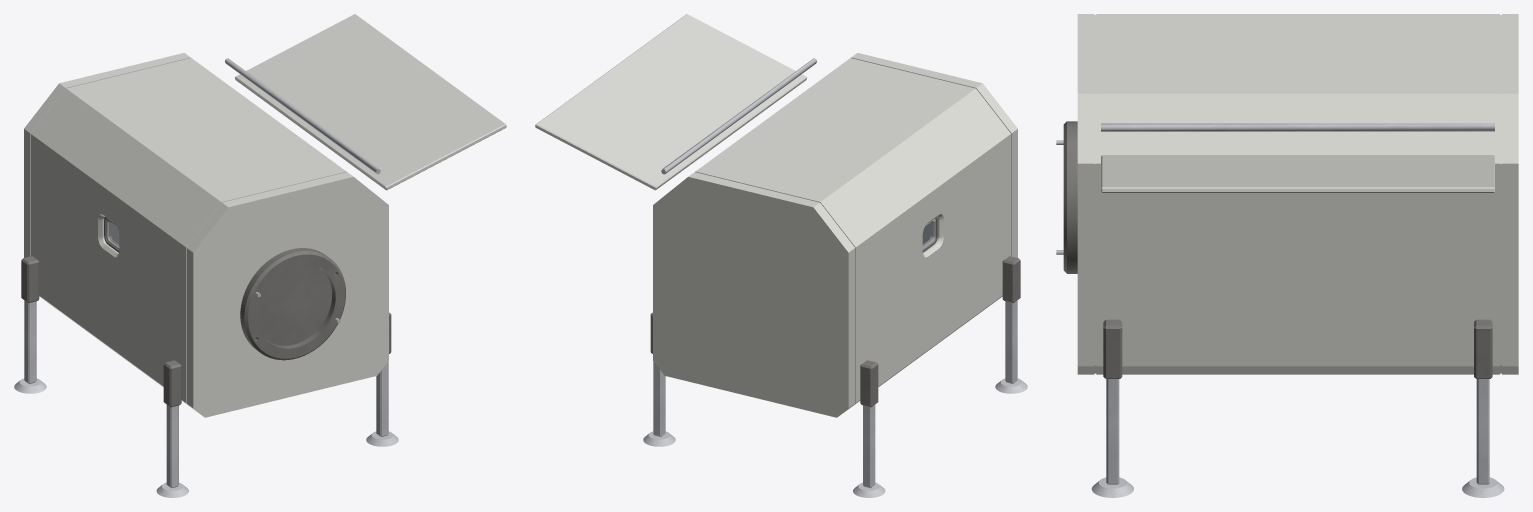
The model's file is ax_rover_06_temp_station_deployed.glb.
3 renders of one model, left to right at view 1: azimuth 30°, elevation 25°; view 2: azimuth 150°, elevation 25°; view 3: azimuth 270°, elevation 25°, orthographic. The views are drawn at different scales.
Visible parts, largest first — view 1: hub_shell, panel_awning_radiator, hatch_door_1, hub_ring_front, leg_2, leg_1, leg_3, awning_hinge, jack_sleeve_1, jack_sleeve_2; view 2: hub_shell, panel_awning_radiator, leg_1, leg_2, leg_4, awning_hinge, jack_sleeve_2, jack_sleeve_1; view 3: hub_shell, panel_awning_radiator, awning_hinge, hub_ring_front, leg_3, leg_4, jack_sleeve_3, jack_sleeve_4.
Part boxes in pixels (left/top/right/bottom): hub_shell: left=24, top=53, right=388, bottom=417; panel_awning_radiator: left=235, top=14, right=506, bottom=190; hatch_door_1: left=257, top=264, right=331, bottom=345; hub_ring_front: left=240, top=248, right=345, bottom=360; leg_2: left=14, top=300, right=46, bottom=393; leg_1: left=156, top=405, right=188, bottom=497; leg_3: left=366, top=361, right=398, bottom=446; awning_hinge: left=225, top=58, right=380, bottom=174; jack_sleeve_1: left=163, top=360, right=181, bottom=407; jack_sleeve_2: left=21, top=256, right=39, bottom=302; hub_shell: left=653, top=53, right=1017, bottom=417; panel_awning_radiator: left=535, top=14, right=806, bottom=190; leg_1: left=995, top=300, right=1027, bottom=393; leg_2: left=853, top=405, right=885, bottom=497; leg_4: left=643, top=361, right=675, bottom=446; awning_hinge: left=661, top=58, right=816, bottom=174; jack_sleeve_2: left=860, top=360, right=878, bottom=407; jack_sleeve_1: left=1002, top=256, right=1020, bottom=302; hub_shell: left=1077, top=14, right=1518, bottom=374; panel_awning_radiator: left=1101, top=155, right=1494, bottom=192; awning_hinge: left=1101, top=123, right=1494, bottom=131; hub_ring_front: left=1063, top=121, right=1077, bottom=273; leg_3: left=1091, top=379, right=1133, bottom=497; leg_4: left=1462, top=379, right=1504, bottom=497; jack_sleeve_3: left=1103, top=319, right=1122, bottom=378; jack_sleeve_4: left=1474, top=319, right=1492, bottom=378.
Bounding box in the file's own units: 4.4 × 3.54 × 3.93.
4 materials, 2 textured.
